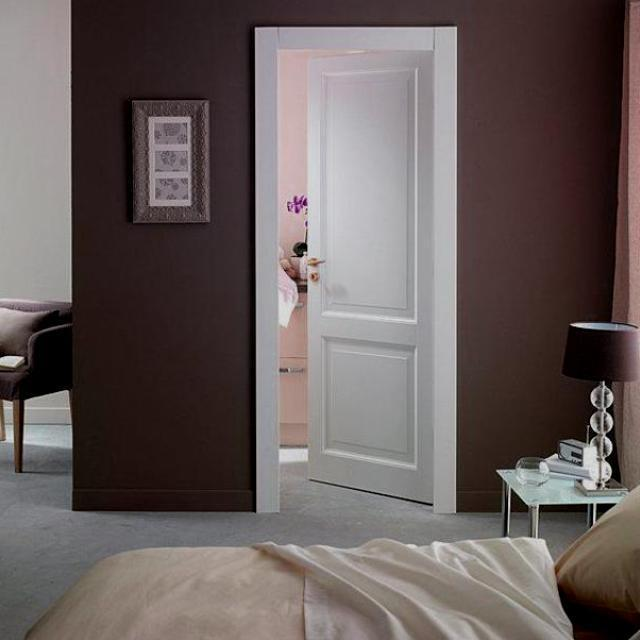door: (305, 52, 435, 503)
